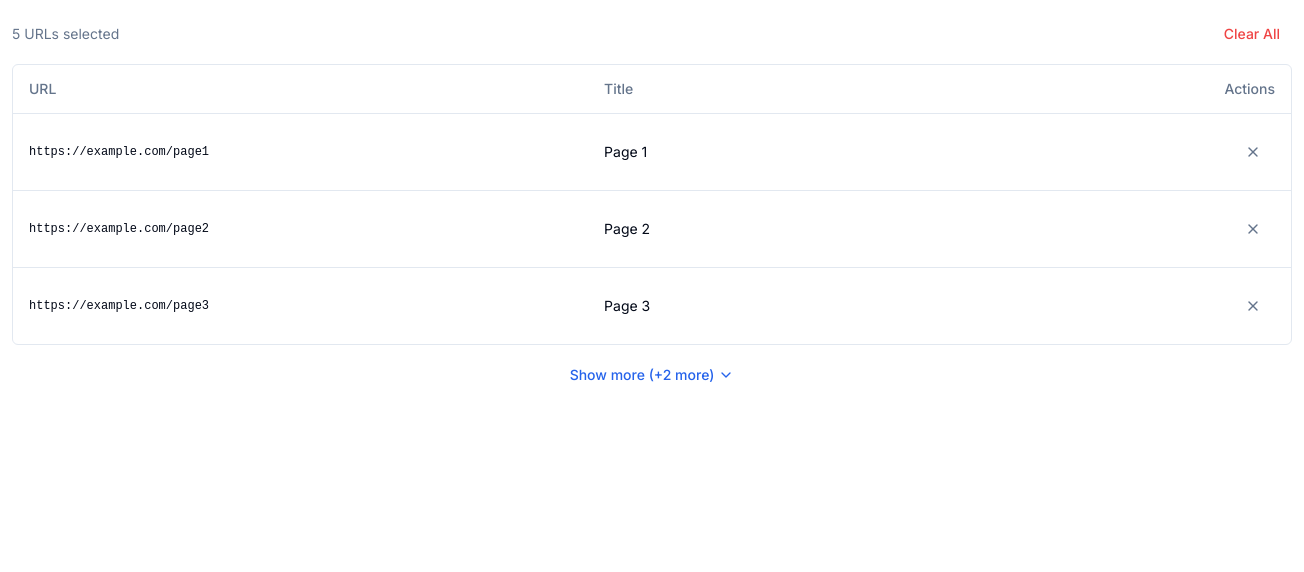
BatchUrlTable › Show More/Less Toggle › collapses back to first 3 URLs when "Show less" is clicked
# Click "Show more" to expand
Step 1. Click the button "Show more (+2 more)" → (652, 374), box [558, 352, 746, 396]
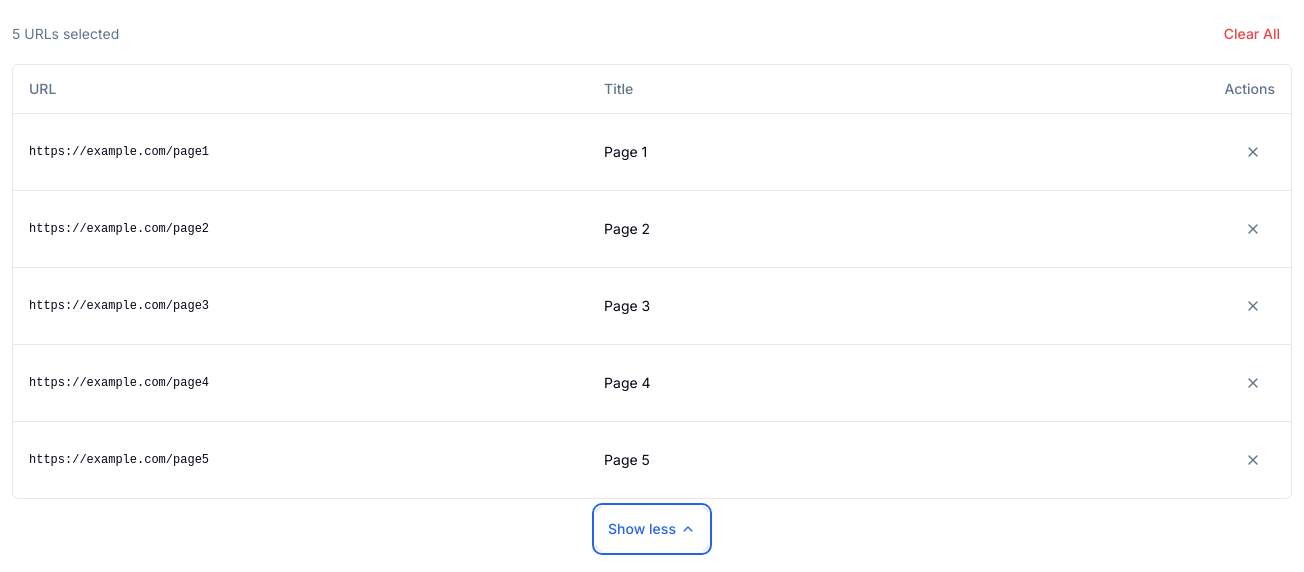
Now the text "https://example.com/page4" is shown, box [29, 376, 209, 390]
Now the text "https://example.com/page5" is shown, box [29, 452, 209, 466]
# Click "Show less" to collapse
Step 2. Click the button "Show less" → (652, 528), box [596, 506, 708, 550]
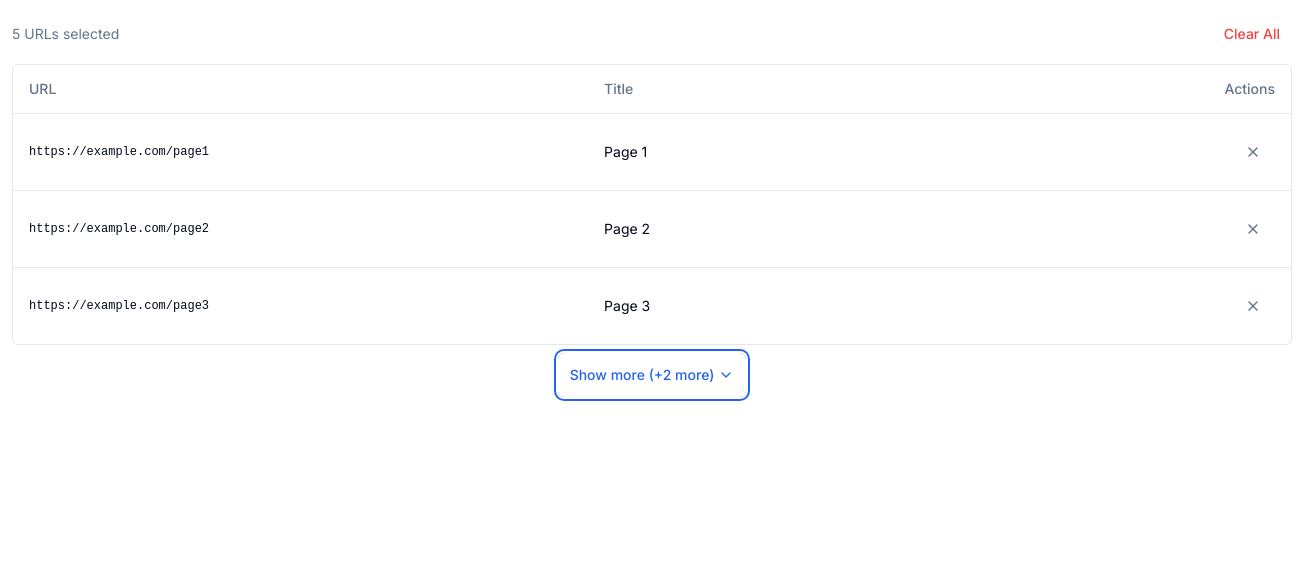
Now the text "https://example.com/page4" is gone
Now the text "https://example.com/page5" is gone
Now the button "Show more (+2 more)" is shown, box [558, 352, 746, 396]
